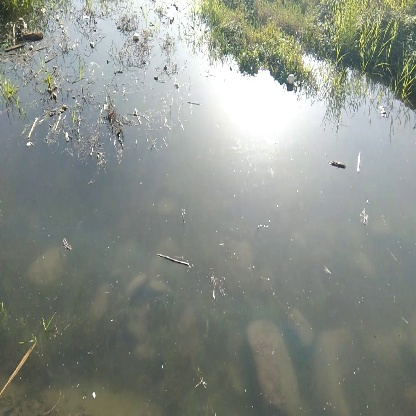grass: (242, 22, 311, 76)
